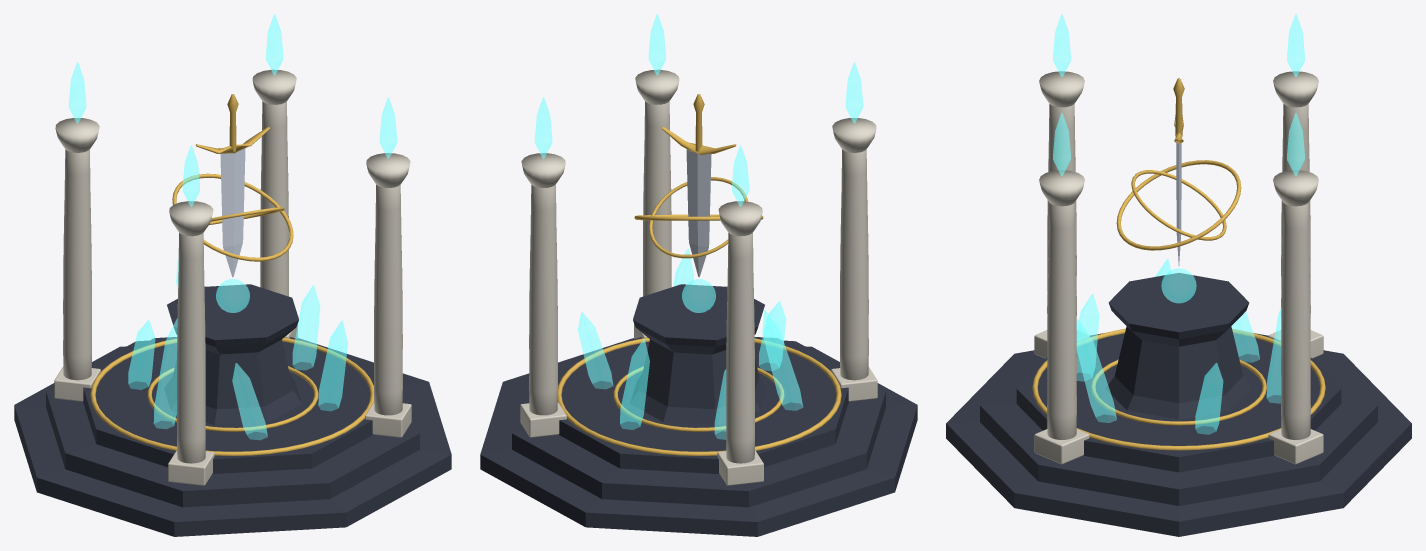
File: webtoon-crystal-prism-sanctum-altar-v16.glb
The picture shows the model from 3 angles, left to right: view 1: azimuth 30°, elevation 25°; view 2: azimuth 150°, elevation 25°; view 3: azimuth 270°, elevation 25°; orthographic projection. The views are drawn at different scales.
Visible parts, largest first — view 1: SanctumObsidianDais, SanctumFlutedPillars, SanctumPrismCrystals.001, SanctumRunicRingsAndHilt.001, SanctumAwakeningBlade.001; view 2: SanctumObsidianDais, SanctumFlutedPillars, SanctumPrismCrystals.001, SanctumRunicRingsAndHilt.001, SanctumAwakeningBlade.001; view 3: SanctumObsidianDais, SanctumFlutedPillars, SanctumPrismCrystals.001, SanctumRunicRingsAndHilt.001, SanctumAwakeningBlade.001.
Boxes of the visible parts, x1,y1,x2,y2 form: SanctumObsidianDais: (14,284,451,536); SanctumFlutedPillars: (54,69,411,485); SanctumPrismCrystals.001: (68,14,397,439); SanctumRunicRingsAndHilt.001: (90,94,373,455); SanctumAwakeningBlade.001: (220,148,245,277); SanctumObsidianDais: (480,284,917,536); SanctumFlutedPillars: (520,69,877,485); SanctumPrismCrystals.001: (534,14,863,439); SanctumRunicRingsAndHilt.001: (558,94,841,455); SanctumAwakeningBlade.001: (686,149,711,277); SanctumObsidianDais: (946,273,1411,536); SanctumFlutedPillars: (1034,71,1323,464); SanctumPrismCrystals.001: (1053,14,1304,434); SanctumRunicRingsAndHilt.001: (1032,78,1325,450); SanctumAwakeningBlade.001: (1176,143,1181,265).
Bounding box in the file's own units: 3.04 × 2.7 × 3.04.
